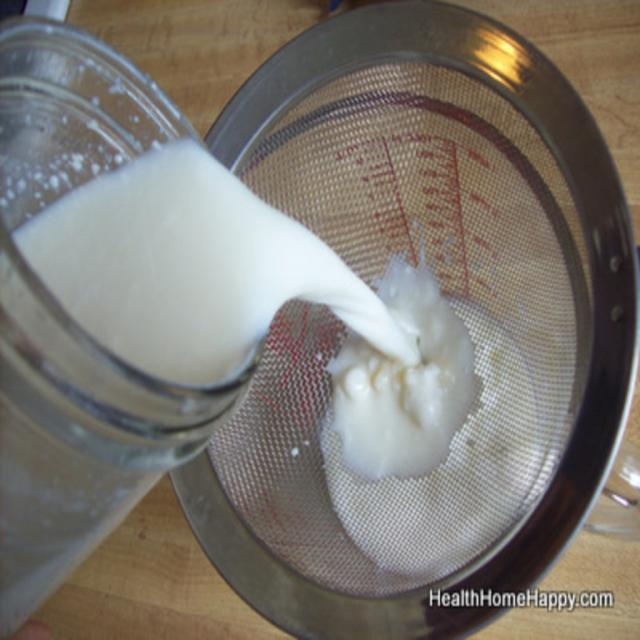Milk: (0, 130, 349, 638), (320, 296, 540, 584)
